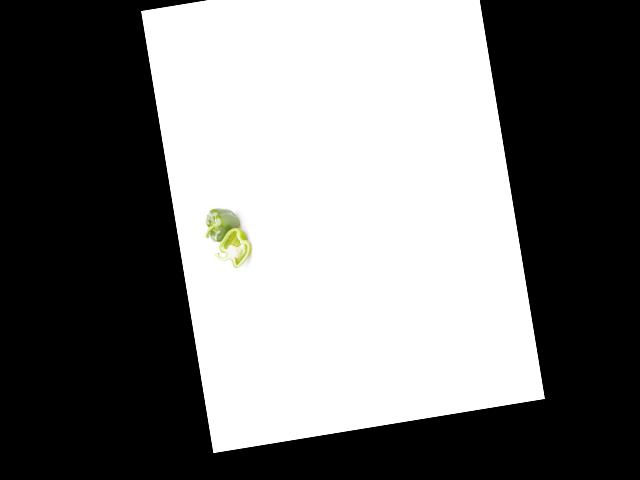bell_pepper: (209, 224, 253, 273)
